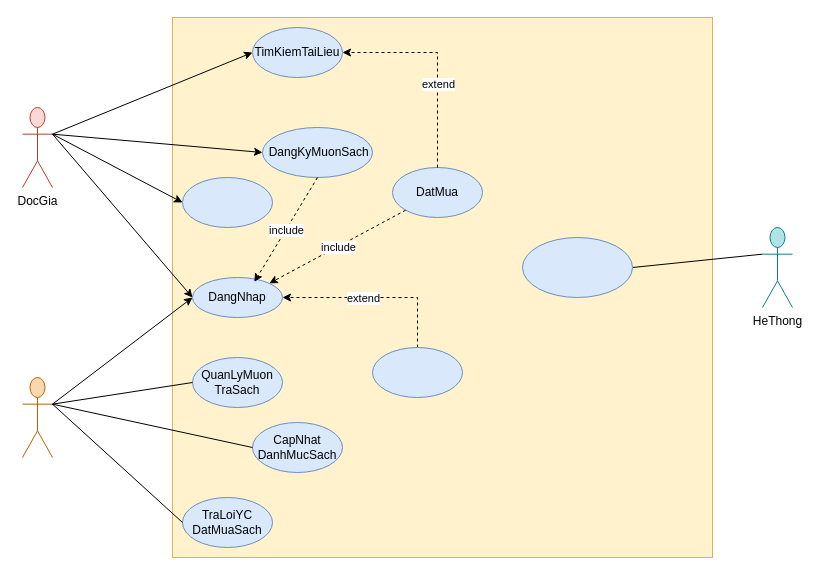
The diagram is 819 pixels wide and 575 high, and some of its shapes have lost their labels. The centre of each missing label's shape, as x and y in pixels:
DocTrucTuyen: the point at 227,202
GuiMailThongBao HanTraSach: the point at 577,267
TaoTaiKhoan: the point at 417,372
ThuThu: the point at 37,417
